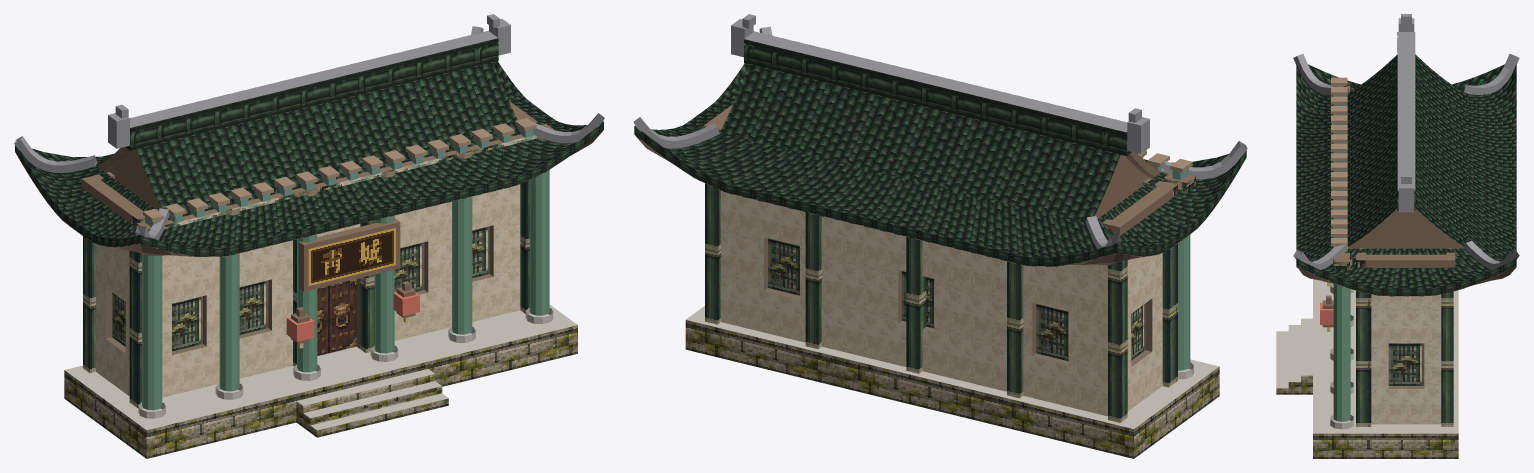
Rendered from g_cheongseong_hut_b.glb.
3 views of the same model, side by side, from view 1: azimuth 30°, elevation 25°; view 2: azimuth 150°, elevation 25°; view 3: azimuth 270°, elevation 25° (orthographic). The views are drawn at different scales.
Visible parts, largest first — view 1: roof, plaster, stonetop, stone, col, ridge, ridgeend, post, wood, win, eave, woodl (+7 smaller); view 2: roof, plaster, stone, post, ridge, ridgeend, eave, stonetop, win, wood, col, reveal (+1 smaller); view 3: roof, stonetop, plaster, ridgeend, wood, stone, post, woodl, col, eave, win, dougong (+1 smaller).
Boxes of the visible parts, bbox=[...] form: roof: bbox=[19, 61, 603, 248]; plaster: bbox=[96, 184, 520, 397]; stonetop: bbox=[64, 305, 577, 430]; stone: bbox=[64, 325, 577, 458]; col: bbox=[142, 170, 549, 410]; ridge: bbox=[125, 38, 498, 150]; ridgeend: bbox=[14, 14, 604, 239]; post: bbox=[83, 122, 537, 408]; wood: bbox=[81, 101, 554, 343]; win: bbox=[112, 226, 489, 351]; eave: bbox=[15, 122, 603, 256]; woodl: bbox=[142, 118, 543, 229]; roof: bbox=[635, 63, 1242, 257]; plaster: bbox=[721, 191, 1162, 416]; stone: bbox=[685, 320, 1219, 458]; post: bbox=[705, 183, 1177, 422]; ridge: bbox=[744, 39, 1131, 155]; ridgeend: bbox=[633, 14, 1247, 248]; eave: bbox=[634, 126, 1246, 266]; stonetop: bbox=[686, 306, 1219, 428]; win: bbox=[768, 238, 1145, 361]; wood: bbox=[703, 104, 1195, 235]; col: bbox=[1178, 235, 1190, 370]; reveal: bbox=[764, 237, 1152, 366]; roof: bbox=[1296, 54, 1516, 288]; stonetop: bbox=[1276, 279, 1458, 433]; plaster: bbox=[1371, 294, 1441, 424]; ridgeend: bbox=[1293, 14, 1519, 269]; wood: bbox=[1322, 85, 1464, 327]; stone: bbox=[1276, 375, 1458, 458]; post: bbox=[1356, 87, 1453, 426]; woodl: bbox=[1331, 77, 1352, 266]; col: bbox=[1333, 284, 1350, 421]; eave: bbox=[1296, 258, 1516, 296]; win: bbox=[1388, 343, 1424, 385]; dougong: bbox=[1333, 86, 1347, 251].
Bounding box in the file's own units: 85.81 × 53.38 × 43.61.
20 materials, 10 textured.
